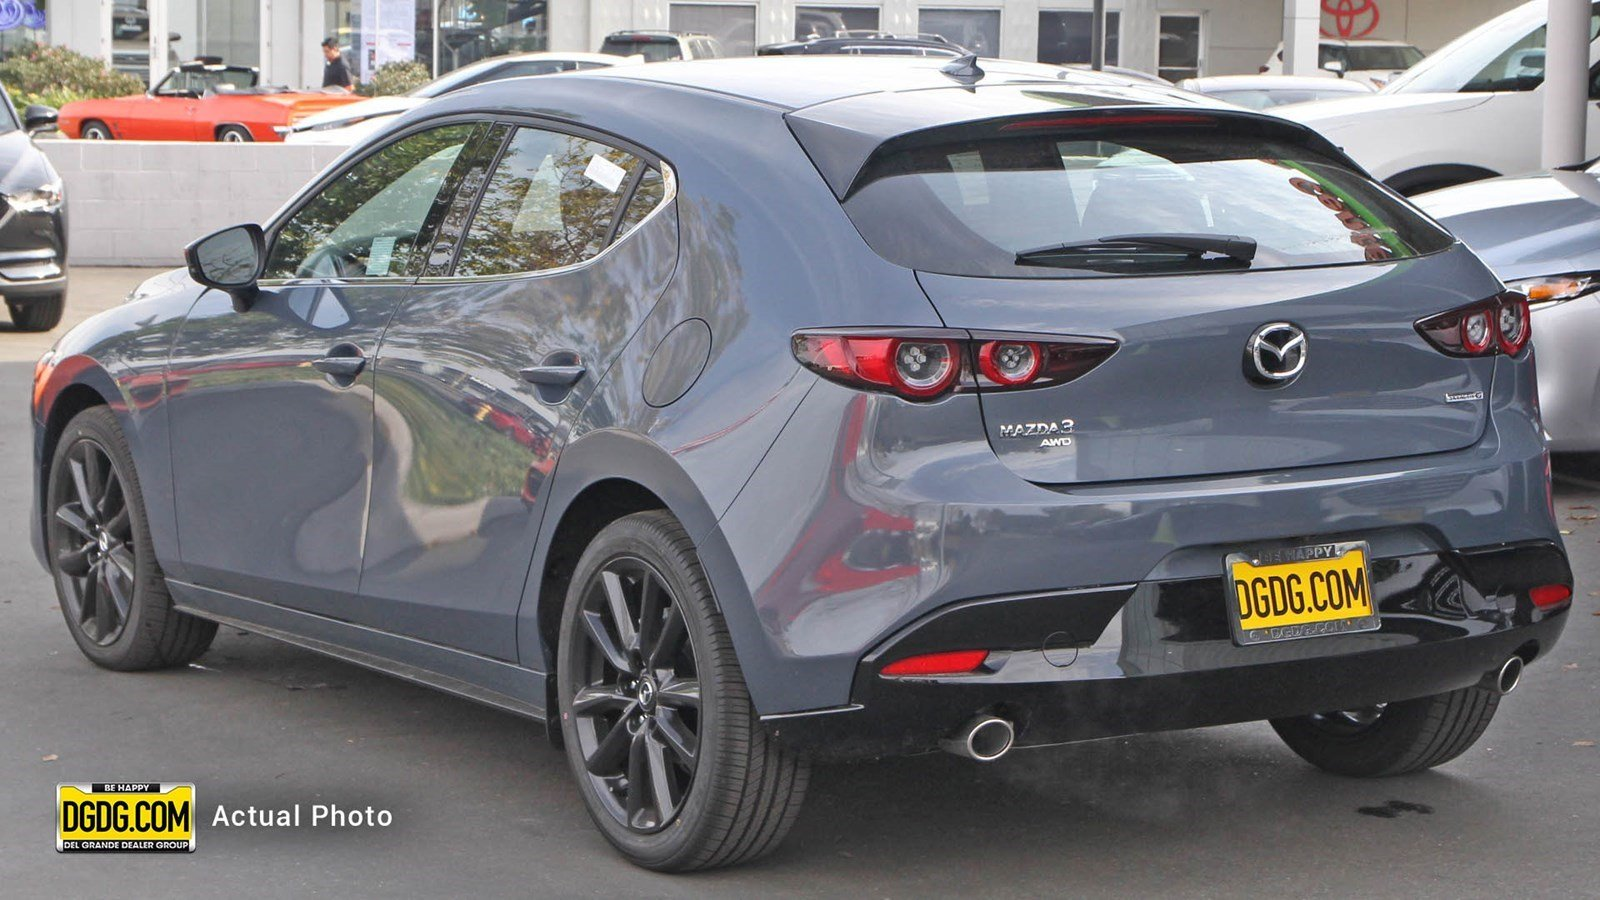Mazda3 Hatchback: (22, 38, 1584, 881)
